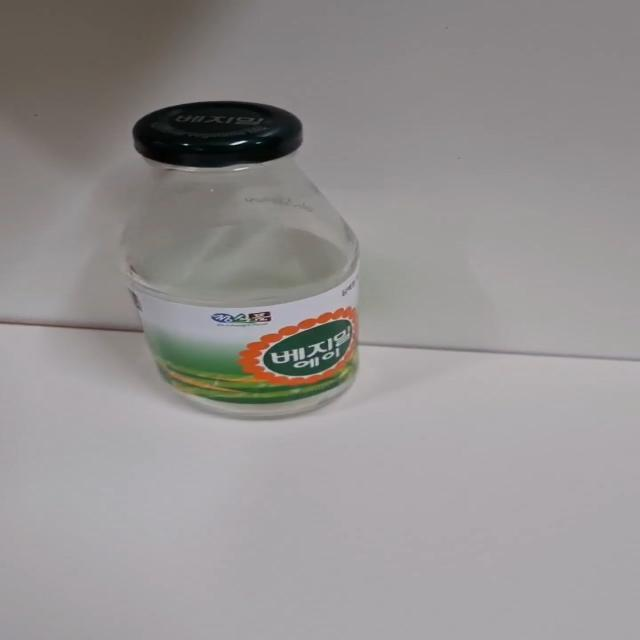Glass: (113, 102, 380, 426)
